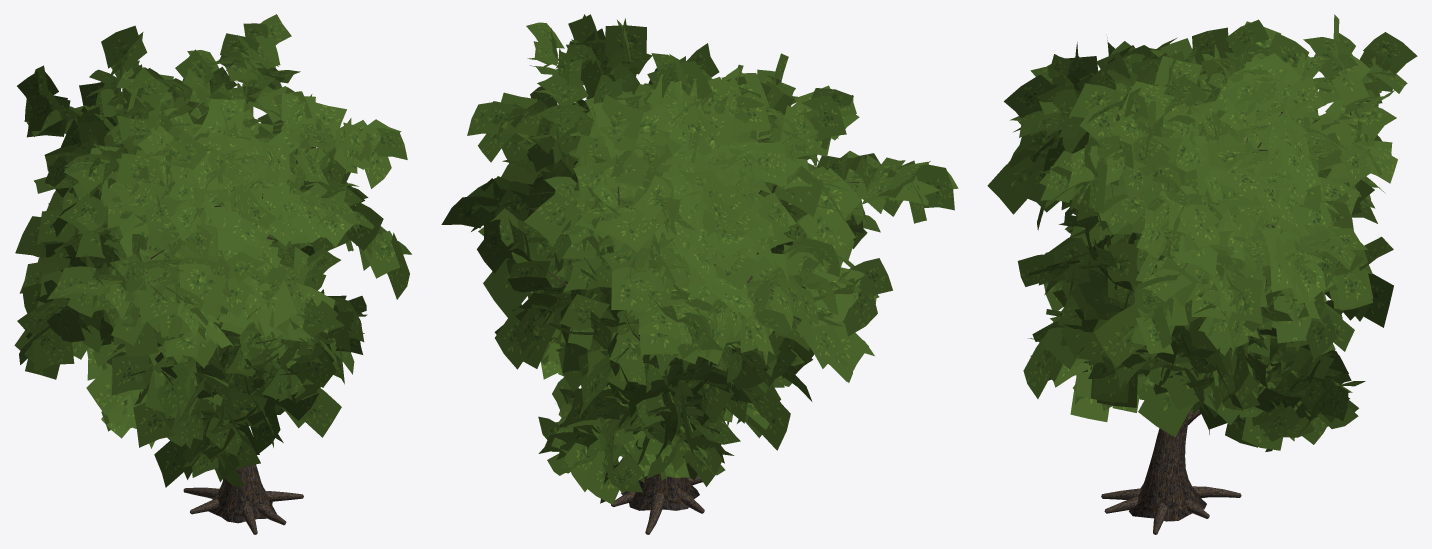
The model's file is RealisticTree.obj.
The picture shows the model from 3 angles, left to right: view 1: azimuth 30°, elevation 25°; view 2: azimuth 150°, elevation 25°; view 3: azimuth 270°, elevation 25°; orthographic projection. The views are drawn at different scales.
Visible parts, largest first — view 1: RealisticTree; view 2: RealisticTree; view 3: RealisticTree.
Part boxes in pixels (box(x1,y1,x2,y2)): RealisticTree: box(14, 14, 411, 534); RealisticTree: box(441, 14, 958, 534); RealisticTree: box(987, 14, 1417, 534).
Size of the model in its own units: 10 by 10.82 by 8.76.
4 materials, 4 textured.
